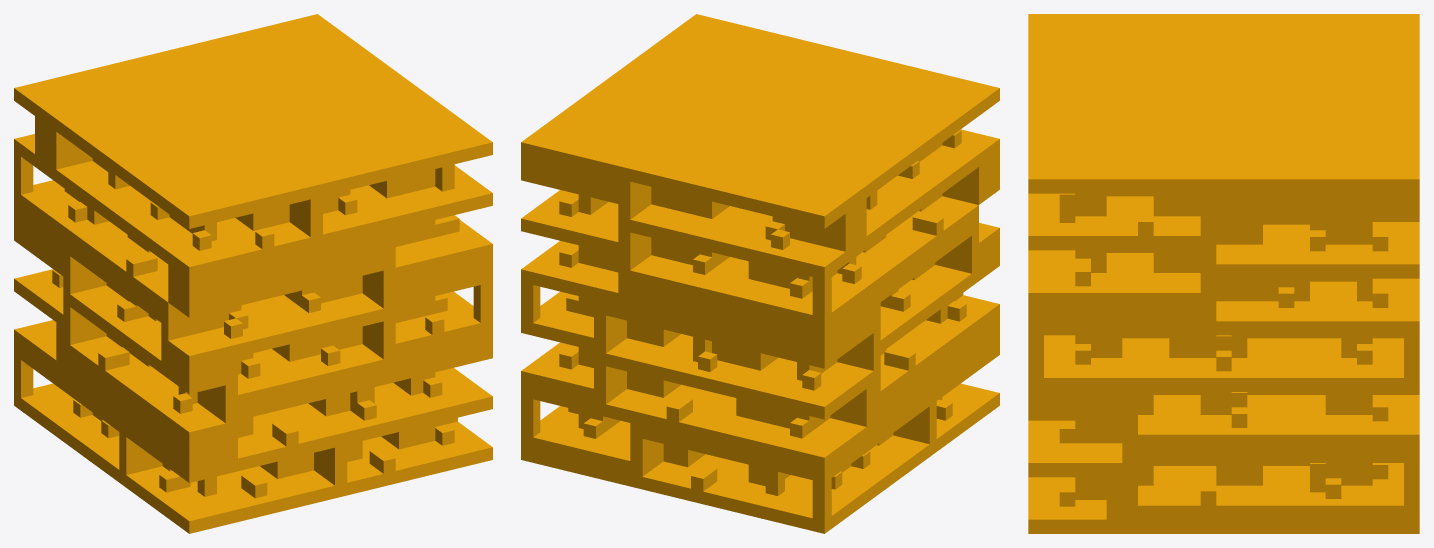
File: маркорн.dae
3 renders of one model, left to right at view 1: azimuth 30°, elevation 25°; view 2: azimuth 150°, elevation 25°; view 3: azimuth 270°, elevation 25°, orthographic. The views are drawn at different scales.
Parts seen in each view (by area): view 1: Маркорн; view 2: Маркорн; view 3: Маркорн.
Boxes of the visible parts, x1,y1,x2,y2 form: Маркорн: [14, 14, 492, 533]; Маркорн: [521, 14, 999, 533]; Маркорн: [1028, 14, 1419, 533].
Bounding box in the file's own units: 2.5 × 2.5 × 2.5.
